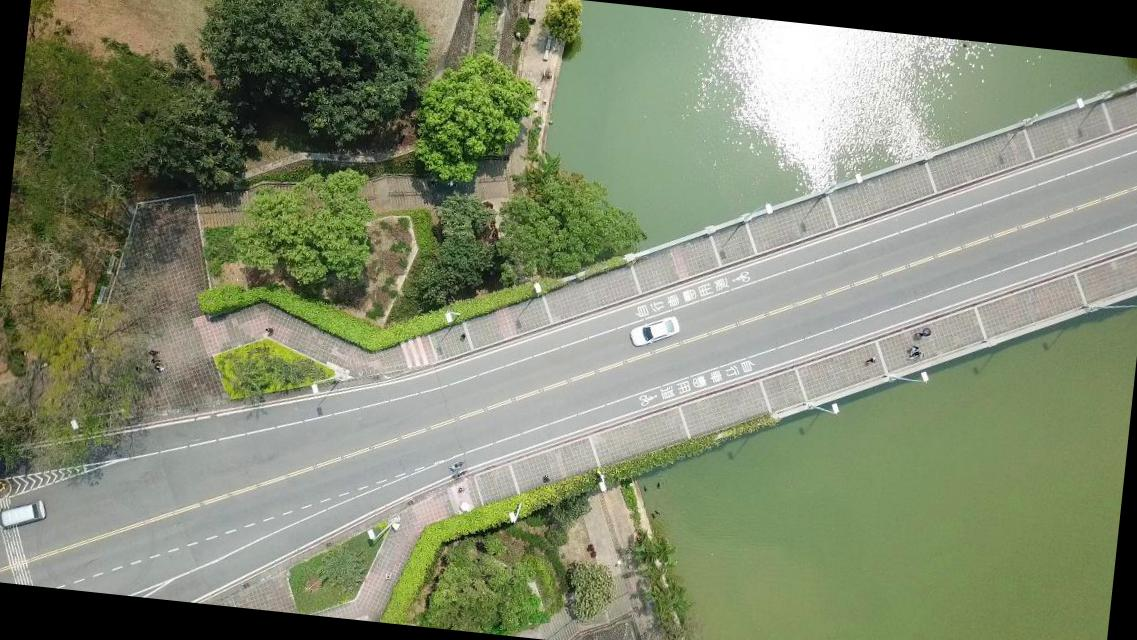vehicle: (629, 310, 681, 350), (0, 494, 48, 535)
